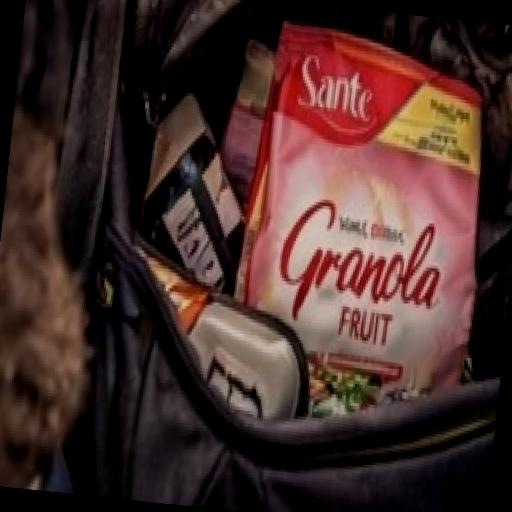granola: (194, 0, 512, 451)
